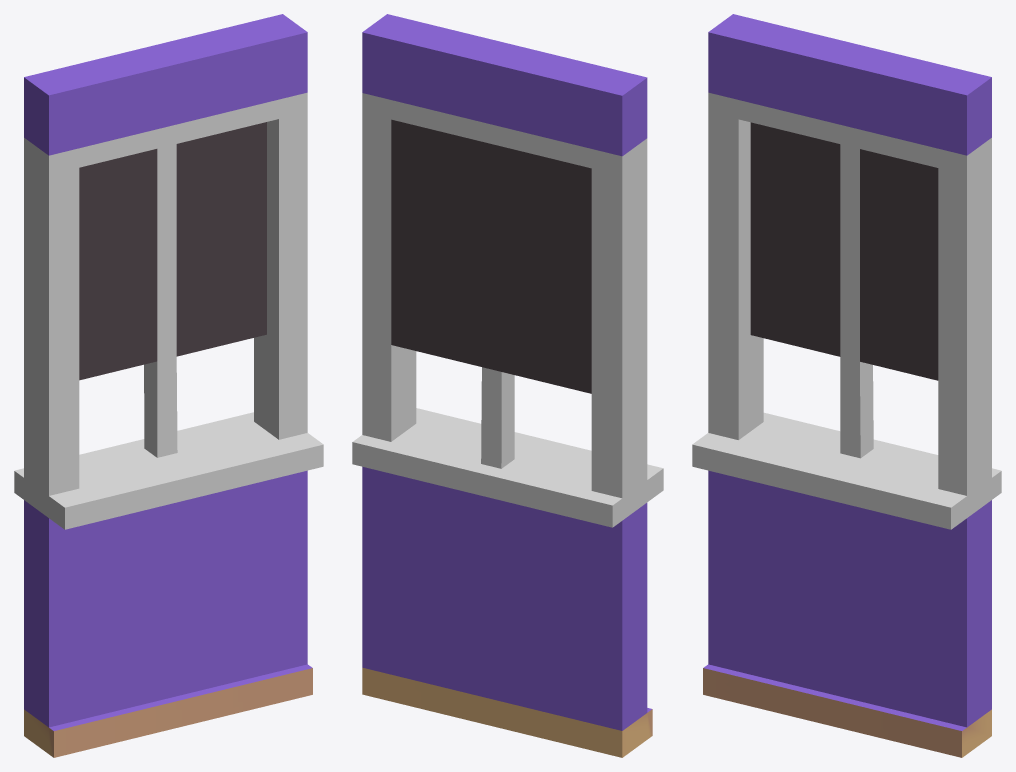
Rendered from Petite fenêtre.fbx.
3 renders of one model, left to right at view 1: azimuth 30°, elevation 25°; view 2: azimuth 150°, elevation 25°; view 3: azimuth 330°, elevation 25°, orthographic.
Visible parts, largest first — view 1: Cube; view 2: Cube; view 3: Cube.
Boxes of the visible parts, bbox=[...] form: Cube: bbox=[14, 14, 323, 757]; Cube: bbox=[352, 14, 663, 757]; Cube: bbox=[692, 14, 1001, 757].
Size of the model in its own units: 366 by 891 by 124.
